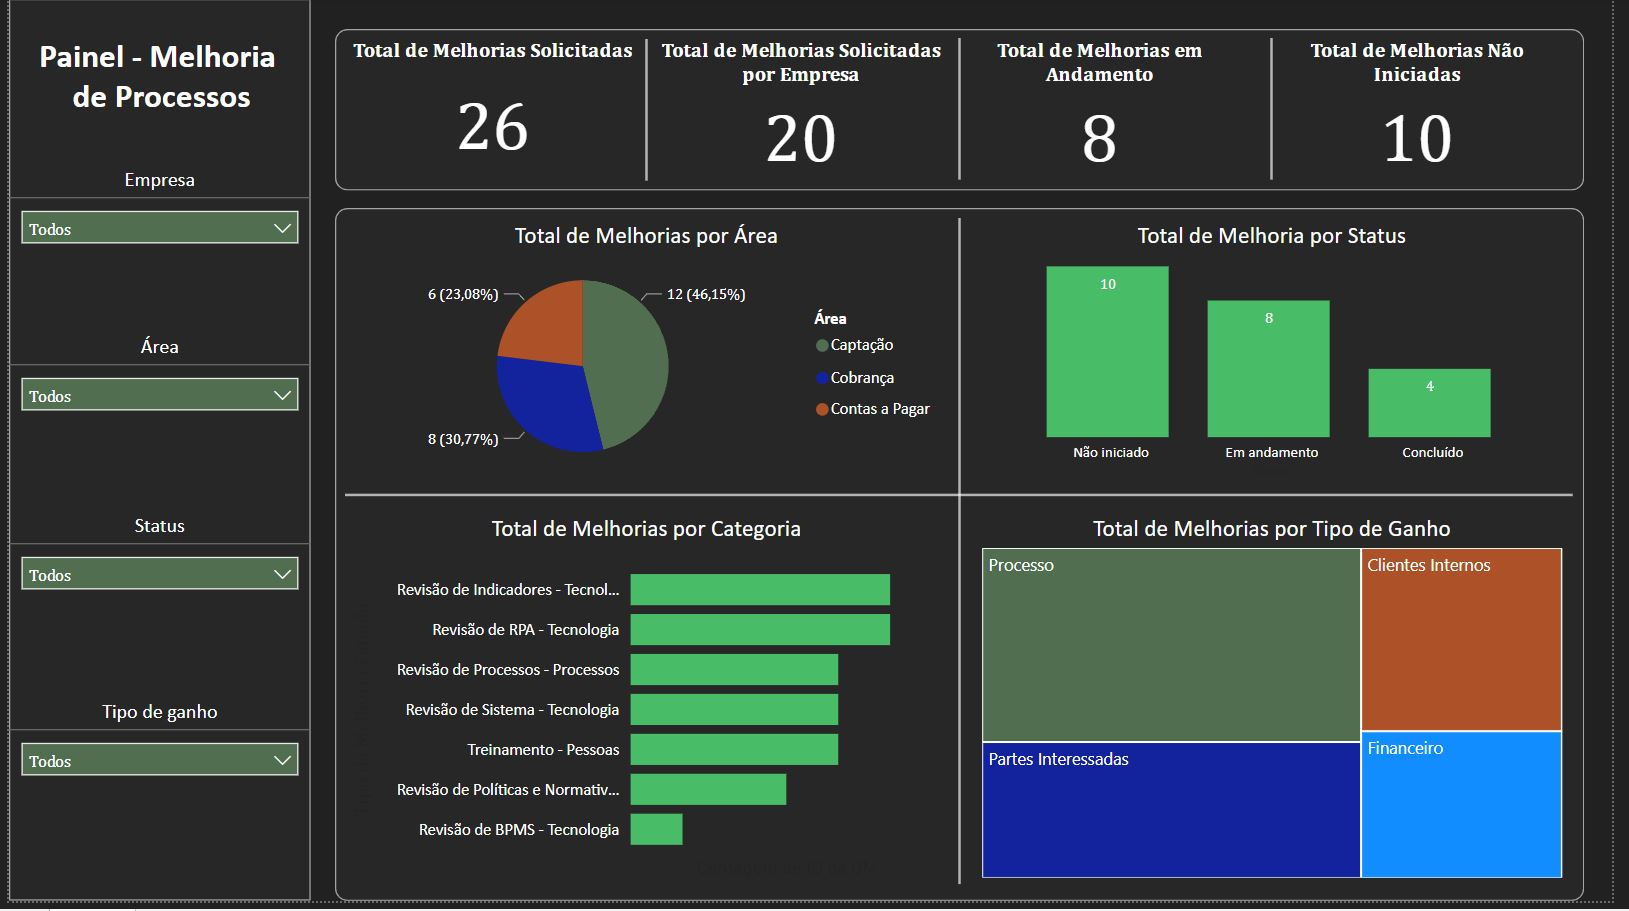

Layout of this report page (visuals, bound fields, positions):
{"tool":"powerbi","page":{"name":"Página 1","canvas":[1280,720],"ordinal":0},"visuals":[{"type":"shape","box":[260.5,166.5,997.1,553.2],"z":0},{"type":"shape","box":[260.5,24.2,997.1,128.9],"z":1000},{"type":"shape","box":[0,0,240.8,719.7],"z":2000},{"type":"card","title":"Total de Melhorias Solicitadas","fields":{"Values":["CountNonNull(Dataset.ID da OM)"]},"box":[268.2,31.1,235.5,113.3],"z":3000},{"type":"card","title":"Total de Melhorias Solicitadas por Empresa","fields":{"Values":["CountNonNull(Dataset.ID da OM)"]},"box":[514.9,31.1,234.7,113.3],"z":4000},{"type":"card","title":"Total de Melhorias em Andamento","fields":{"Values":["CountNonNull(Dataset.ID da OM)"]},"box":[749.5,31.1,241.9,113.3],"z":5000},{"type":"card","title":"Total de Melhorias Não Iniciadas","fields":{"Values":["CountNonNull(Dataset.ID da OM)"]},"box":[999.4,31.1,249,113.3],"z":6000},{"type":"pieChart","title":"Total de Melhorias por Área","fields":{"Y":["CountNonNull(Dataset.ID da OM)"],"Category":["Dataset.Área"]},"box":[268.5,176.3,481.6,210.3],"z":7000},{"type":"columnChart","title":"Total de Melhoria por Status","fields":{"Category":["Dataset.Status"],"Y":["CountNonNull(Dataset.ID da OM)"]},"box":[771.6,176.3,472.6,210.3],"z":8000},{"type":"treemap","title":"Total de Melhorias por Tipo de Ganho","fields":{"Group":["Dataset.Tipo de ganho"],"Values":["CountNonNull(Dataset.ID da OM)"]},"box":[771.6,410,472.6,296.3],"z":9000},{"type":"barChart","title":"Total de Melhorias por Categoria","fields":{"Y":["CountNonNull(Dataset.ID da OM)"],"Category":["Dataset.Tipo de Melhoria Fatiada"]},"box":[268.5,410,481.6,296.3],"z":10000},{"type":"slicer","title":"Empresa","fields":{"Values":["Dataset.Empresa"]},"box":[0,134.3,240.8,83.2],"z":11000},{"type":"slicer","title":"Área","fields":{"Values":["Dataset.Área"]},"box":[0,267.6,240.8,83.2],"z":12000},{"type":"slicer","title":"Status","fields":{"Values":["Dataset.Status"]},"box":[0,410,240.8,83.2],"z":13000},{"type":"slicer","title":"Tipo de ganho","fields":{"Values":["Dataset.Tipo de ganho"]},"box":[0,558.5,240.8,83.2],"z":14000},{"type":"shape","box":[482.9,31.9,51.9,113.3],"z":15000},{"type":"shape","box":[732.8,31.1,51.9,113.3],"z":16000},{"type":"shape","box":[981.8,31.1,51.9,113.3],"z":17000},{"type":"shape","box":[733.1,174.5,51.9,531.7],"z":18000},{"type":"shape","box":[268.5,381.3,980.1,28.6],"z":19000},{"type":"textbox","box":[8,23.9,227.5,75],"z":20000}]}

Visuals, with their boxes in screenshot pixels (x1, y1, x2, y2), scaled from the page's 1280x720 canvas onto the 1629x911 screenshot:
shape: 332,211,1600,910
shape: 332,31,1600,194
shape: 0,0,306,910
"Total de Melhorias Solicitadas" card: 341,39,641,183
"Total de Melhorias Solicitadas por Empresa" card: 655,39,954,183
"Total de Melhorias em Andamento" card: 954,39,1262,183
"Total de Melhorias Não Iniciadas" card: 1272,39,1589,183
"Total de Melhorias por Área" pieChart: 342,223,955,489
"Total de Melhoria por Status" columnChart: 982,223,1583,489
"Total de Melhorias por Tipo de Ganho" treemap: 982,519,1583,894
"Total de Melhorias por Categoria" barChart: 342,519,955,894
"Empresa" slicer: 0,170,306,275
"Área" slicer: 0,339,306,444
"Status" slicer: 0,519,306,624
"Tipo de ganho" slicer: 0,707,306,812
shape: 615,40,681,184
shape: 933,39,999,183
shape: 1249,39,1316,183
shape: 933,221,999,894
shape: 342,482,1589,519
textbox: 10,30,300,125
